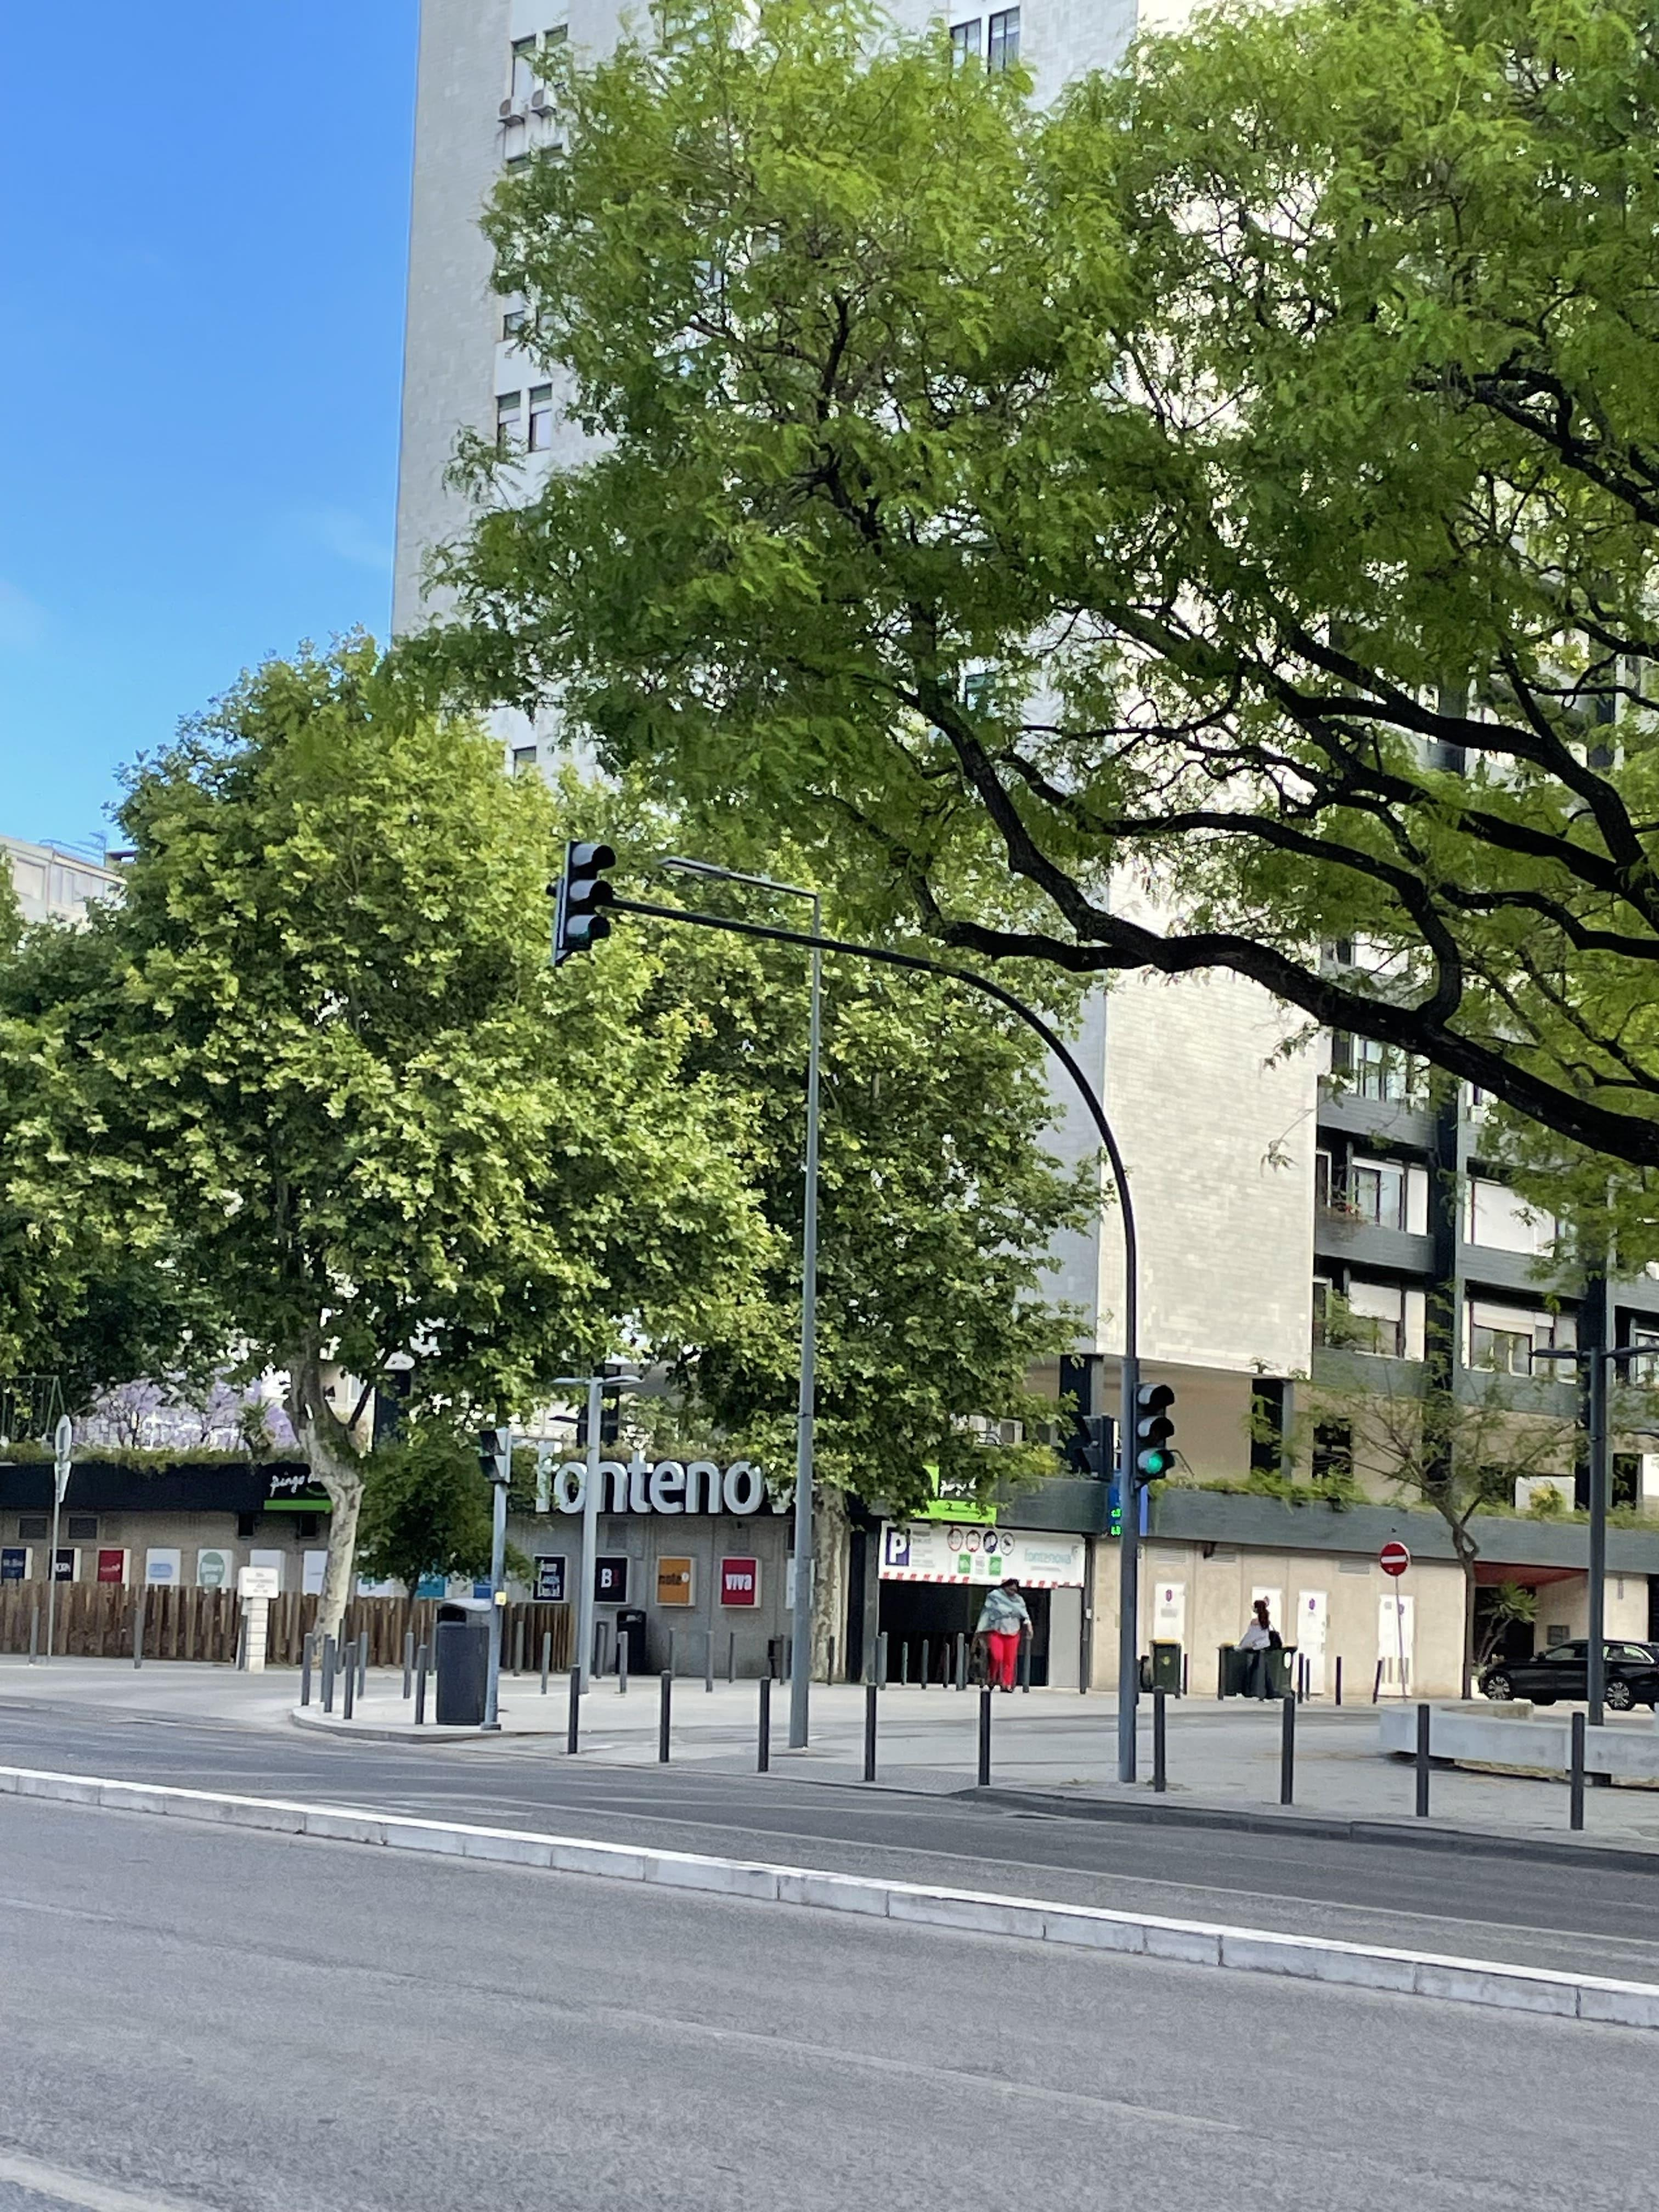Sentido proibido: (1372, 1536, 1415, 1583)
